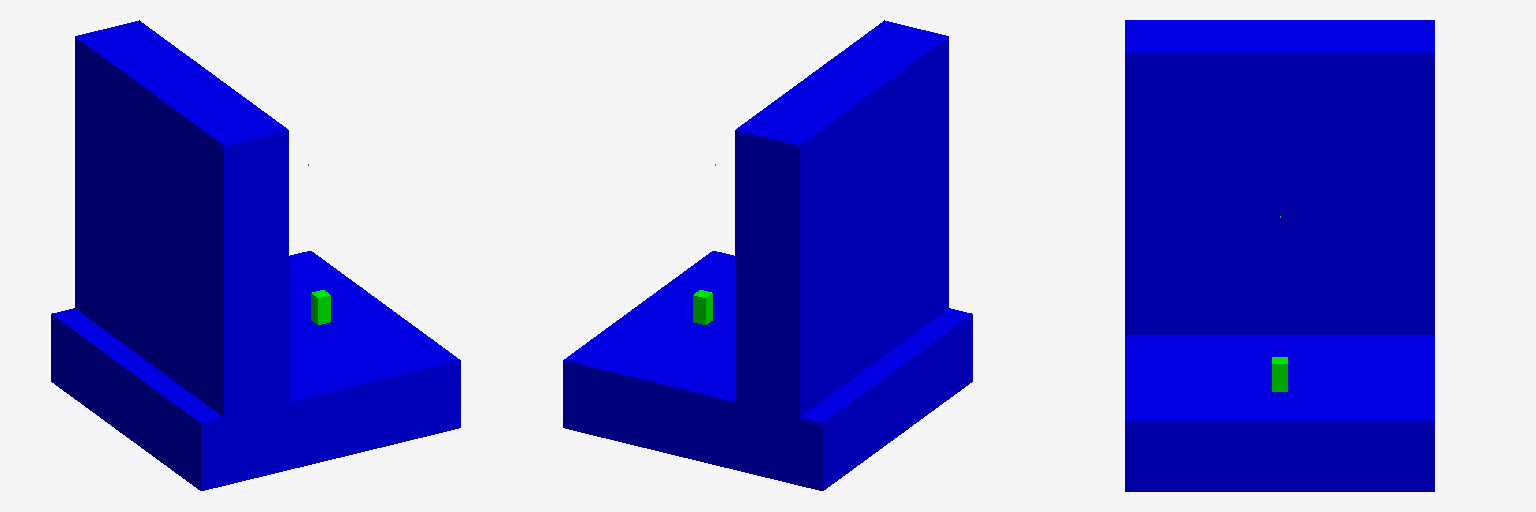
robot.urdf — abb_irb140:
<?xml version="1.0" ?>
<!-- =================================================================================== -->
<!-- |    This document was autogenerated by xacro from irb140.xacro                   | -->
<!-- |    EDITING THIS FILE BY HAND IS NOT RECOMMENDED                                 | -->
<!-- =================================================================================== -->
<robot name="abb_irb140" xmlns:xacro="http://ros.org/wiki/xacro">
  <!-- link list -->
  <link name="base_link">
    <visual>
      <origin rpy="0 0 0" xyz="0 0 0"/>
      <geometry>
        <mesh filename="package://abb_irb140_support/meshes/irb140/visual/base_link.stl" scale="0.01 0.01 0.01"/>
      </geometry>
      <material name="abb_orange">
        <color rgba="1 0.43 0 1"/>
      </material>
    </visual>
    <collision>
      <geometry>
        <mesh filename="package://abb_irb140_support/meshes/irb140/collision/base_link.stl" scale="0.01 0.01 0.01"/>
      </geometry>
      <material name="yellow">
        <color rgba="0 1 1 1"/>
      </material>
    </collision>
  </link>
  <link name="link_1">
    <visual>
      <origin rpy="0 0 0" xyz="0 0 0"/>
      <geometry>
        <mesh filename="package://abb_irb140_support/meshes/irb140/visual/link_1.stl" scale="0.01 0.01 0.01"/>
      </geometry>
      <material name="abb_orange"/>
    </visual>
    <collision>
      <origin rpy="0 0 0" xyz="0 0 0"/>
      <geometry>
        <mesh filename="package://abb_irb140_support/meshes/irb140/collision/link_1.stl" scale="0.01 0.01 0.01"/>
      </geometry>
      <material name="yellow"/>
    </collision>
  </link>
  <link name="link_2">
    <visual>
      <origin rpy="0 0 0" xyz="-0.07 0 -0.352"/>
      <geometry>
        <mesh filename="package://abb_irb140_support/meshes/irb140/visual/link_2.stl" scale="0.01 0.01 0.01"/>
      </geometry>
      <material name="abb_orange"/>
    </visual>
    <collision>
      <origin rpy="0 0 0" xyz="-0.07 0 -0.352"/>
      <geometry>
        <mesh filename="package://abb_irb140_support/meshes/irb140/collision/link_2.stl" scale="0.01 0.01 0.01"/>
      </geometry>
      <material name="yellow"/>
    </collision>
  </link>
  <link name="link_3">
    <visual>
      <origin rpy="0 0 0" xyz="-0.07 0.065 -0.712"/>
      <geometry>
        <mesh filename="package://abb_irb140_support/meshes/irb140/visual/link_3.stl" scale="0.01 0.01 0.01"/>
      </geometry>
      <material name="abb_orange"/>
    </visual>
    <collision>
      <origin rpy="0 0 0" xyz="-0.07 0.065 -0.712"/>
      <geometry>
        <mesh filename="package://abb_irb140_support/meshes/irb140/collision/link_3.stl" scale="0.01 0.01 0.01"/>
      </geometry>
      <material name="yellow"/>
    </collision>
  </link>
  <link name="link_4">
    <visual>
      <origin rpy="0 0 0" xyz="-0.309 0 -0.712"/>
      <geometry>
        <mesh filename="package://abb_irb140_support/meshes/irb140/visual/link_4.stl" scale="0.01 0.01 0.01"/>
      </geometry>
      <material name="abb_orange"/>
    </visual>
    <collision>
      <origin rpy="0 0 0" xyz="-0.309 0 -0.712"/>
      <geometry>
        <mesh filename="package://abb_irb140_support/meshes/irb140/collision/link_4.stl" scale="0.01 0.01 0.01"/>
      </geometry>
      <material name="yellow"/>
    </collision>
  </link>
  <link name="link_5">
    <visual>
      <origin rpy="0 0 0" xyz="-0.450 0 -0.712"/>
      <geometry>
        <mesh filename="package://abb_irb140_support/meshes/irb140/visual/link_5.stl" scale="0.01 0.01 0.01"/>
      </geometry>
      <material name="abb_orange"/>
    </visual>
    <collision>
      <origin rpy="0 0 0" xyz="-0.450 0 -0.712"/>
      <geometry>
        <mesh filename="package://abb_irb140_support/meshes/irb140/collision/link_5.stl" scale="0.01 0.01 0.01"/>
      </geometry>
      <material name="yellow"/>
    </collision>
  </link>
  <link name="link_6">
    <visual>
      <origin rpy="0 0 0" xyz="-0.515 0 -0.712"/>
      <geometry>
        <mesh filename="package://abb_irb140_support/meshes/irb140/visual/link_6.stl" scale="0.01 0.01 0.01"/>
      </geometry>
      <material name="abb_orange"/>
    </visual>
    <collision>
      <origin rpy="0 0 0" xyz="-0.515 0 -0.712"/>
      <geometry>
        <mesh filename="package://abb_irb140_support/meshes/irb140/collision/link_6.stl" scale="0.01 0.01 0.01"/>
      </geometry>
      <material name="yellow"/>
    </collision>
  </link>
  <link name="tool0">
    <visual>
      <origin rpy="0 0 0" xyz="-0.515 0.001 -0.181"/>
      <geometry>
        <mesh filename="package://abb_irb140_support/meshes/irb140/visual/tool0.stl" scale="0.001 0.001 0.001"/>
      </geometry>
      <material name="green">
        <color rgba="0 1 0 1"/>
      </material>
    </visual>
    <collision>
      <origin rpy="0 0 0" xyz="-0.515 0.001 -0.181"/>
      <geometry>
        <mesh filename="package://abb_irb140_support/meshes/irb140/collision/tool0.stl" scale="0.001 0.001 0.001"/>
      </geometry>
      <material name="green">
        <color rgba="0 1 0 1"/>
      </material>
    </collision>
  </link>
  <!-- end of link list -->
  <!-- joint list -->
  <joint name="joint_1" type="revolute">
    <origin rpy="0 0 0" xyz="0 0 0"/>
    <parent link="base_link"/>
    <child link="link_1"/>
    <axis xyz="0 0 1"/>
    <limit effort="0" lower="-3.1416" upper="3.1416" velocity="3.4907"/>
  </joint>
  <joint name="joint_2" type="revolute">
    <origin rpy="0 0 0" xyz="0.070 0 0.352"/>
    <parent link="link_1"/>
    <child link="link_2"/>
    <axis xyz="0 1 0"/>
    <limit effort="0" lower="-1.5708" upper="1.9199" velocity="3.4907"/>
  </joint>
  <joint name="joint_3" type="revolute">
    <origin rpy="0 0 0" xyz="0 -0.065 0.360"/>
    <parent link="link_2"/>
    <child link="link_3"/>
    <axis xyz="0 1 0"/>
    <limit effort="0" lower="-4.0143" upper="0.87274434" velocity="4.5379"/>
    <!-- <limit effort="0" lower="-4.0143" upper="0.87274434" velocity="4.5379"/> -->
    <!-- -4.0143 MOVEIT -->
    <!-- -1.22173 ORIGINAL-->
  </joint>
  <joint name="joint_4" type="revolute">
    <origin rpy="0 0 0" xyz="0.239 0.065 0"/>
    <parent link="link_3"/>
    <child link="link_4"/>
    <axis xyz="1 0 0"/>
    <limit effort="0" lower="-3.4907" upper="3.4907" velocity="6.2832"/>
  </joint>
  <joint name="joint_5" type="revolute">
    <origin rpy="0 0 0" xyz="0.141 0 0"/>
    <parent link="link_4"/>
    <child link="link_5"/>
    <axis xyz="0 1 0"/>
    <limit effort="0" lower="-2.0071" upper="2.0071" velocity="6.2832"/>
  </joint>
  <joint name="joint_6" type="revolute">
    <origin rpy="0 0 0" xyz="0.065 0 0"/>
    <parent link="link_5"/>
    <child link="link_6"/>
    <axis xyz="1 0 0"/>
    <limit effort="0" lower="-6.9813" upper="6.9813" velocity="7.854"/>
  </joint>
  <joint name="joint_6-tool0" type="fixed">
    <parent link="link_6"/>
    <child link="tool0"/>
    <origin rpy="1.5708 1.5708 1.5708" xyz="0 0 0"/>
  </joint>
  
  <!-- end of joint list -->
  <!-- ROS base_link to ABB World Coordinates transform  1.5708-->
  <link name="base"/>
  <joint name="base_link-base" type="fixed">
    <origin rpy="0 0 0" xyz="0 0 0"/>
    <parent link="base_link"/>
    <child link="base"/>
  </joint>

  <link name="plane_link">
    <visual>
      <origin rpy="0 0 0" xyz="0 0 -0.25"/>
      <geometry>
        <box size="2.0 2.0 0.5"/>
      </geometry>
      <material name="blue">
        <color rgba="0 0 1 1"/>
      </material>
    </visual>
    <collision>
      <origin rpy="0 0 0" xyz="0 0 -0.26"/>
      <geometry>
        <box size="2.0 2.0 0.5"/>
      </geometry>
    </collision>
  </link>

  <!-- <link name="holder_link">
    <visual>
      <origin rpy="0 0 0" xyz="0 0 0.25"/>
      <geometry>
        <box size="0.025 0.025 0.5"/>
      </geometry>
      <material name="green">
        <color rgba="0 1 0 1"/>
      </material>
    </visual>
    <collision>
      <origin rpy="0 0 0" xyz="0 0 0.15"/>
      <geometry>
        <box size="0.025 0.025 0.3"/>
      </geometry>
    </collision>
  </link> -->

  <link name="obj_position_link">
    <visual>
      <origin rpy="0 0 0" xyz="0 0 0.1"/>
      <geometry>
        <box size="0.1 0.1 0.2"/>
      </geometry>
      <material name="green">
        <color rgba="0 1 0 1"/>
      </material>
    </visual>
    <collision>
      <origin rpy="0 0 0" xyz="0 0 0.1"/>
      <geometry>
        <box size="0.1 0.1 0.2"/>
      </geometry>
    </collision>
  </link>

  <link name="wall_link">
    <visual>
      <origin rpy="0 0 0" xyz="0 0 1.0"/>
      <geometry>
        <box size="0.5 2.0 2.0"/>
      </geometry>
      <material name="blue">
        <color rgba="0 0 1 1"/>
      </material>
    </visual>
    <collision>
      <origin rpy="0 0 0" xyz="0 0 1.0"/>
      <geometry>
        <box size="0.5 2.0 2.0"/>
      </geometry>
    </collision>
  </link>

  <joint name="base_link-plane_link" type="fixed">
    <origin rpy="0 0 0" xyz="0 0 0"/>
    <parent link="base_link"/>
    <child link="plane_link"/>
  </joint>

  <!-- <joint name="plane_link-holder" type="fixed">
    <origin rpy="0 0 0" xyz="0.35 0 0"/>
    <parent link="plane_link"/>
    <child link="holder_link"/>
  </joint> -->

  <joint name="plane_link-obj_position_link" type="fixed">
    <origin rpy="0 0 0" xyz="0.5 0 0"/>
    <parent link="plane_link"/>
    <child link="obj_position_link"/>
  </joint>

  <joint name="base_link-wall_link" type="fixed">
    <origin rpy="0 0 0" xyz="-0.57 0 0"/>
    <parent link="base_link"/>
    <child link="wall_link"/>
  </joint>

</robot>

--- Render facts (derived) ---
3 views of the same robot in one strip: view 1: azimuth 30°, elevation 25°; view 2: azimuth 150°, elevation 25°; view 3: azimuth 270°, elevation 25° (orthographic).
Robot: abb_irb140 — 12 links, 11 joints (6 revolute, 5 fixed); root link base_link; default pose: every joint at zero.
Links seen in each view (by area): view 1: wall_link, plane_link, obj_position_link; view 2: wall_link, plane_link, obj_position_link; view 3: wall_link, plane_link, obj_position_link.
Boxes of the visible links, x1,y1,x2,y2 form: wall_link: (75, 20, 288, 417); plane_link: (51, 251, 460, 490); obj_position_link: (311, 290, 330, 324); wall_link: (735, 20, 948, 417); plane_link: (563, 251, 972, 490); obj_position_link: (693, 290, 712, 324); wall_link: (1125, 20, 1434, 334); plane_link: (1125, 335, 1434, 491); obj_position_link: (1272, 357, 1287, 391).
Bounding box of the posed robot: 2 × 2 × 2.5 m (x, y, z).
Meshes: 8 distinct files referenced, 1 mesh visuals loaded (1 binary STL); not drawn: 7 (reference not matched to a file when rendering).